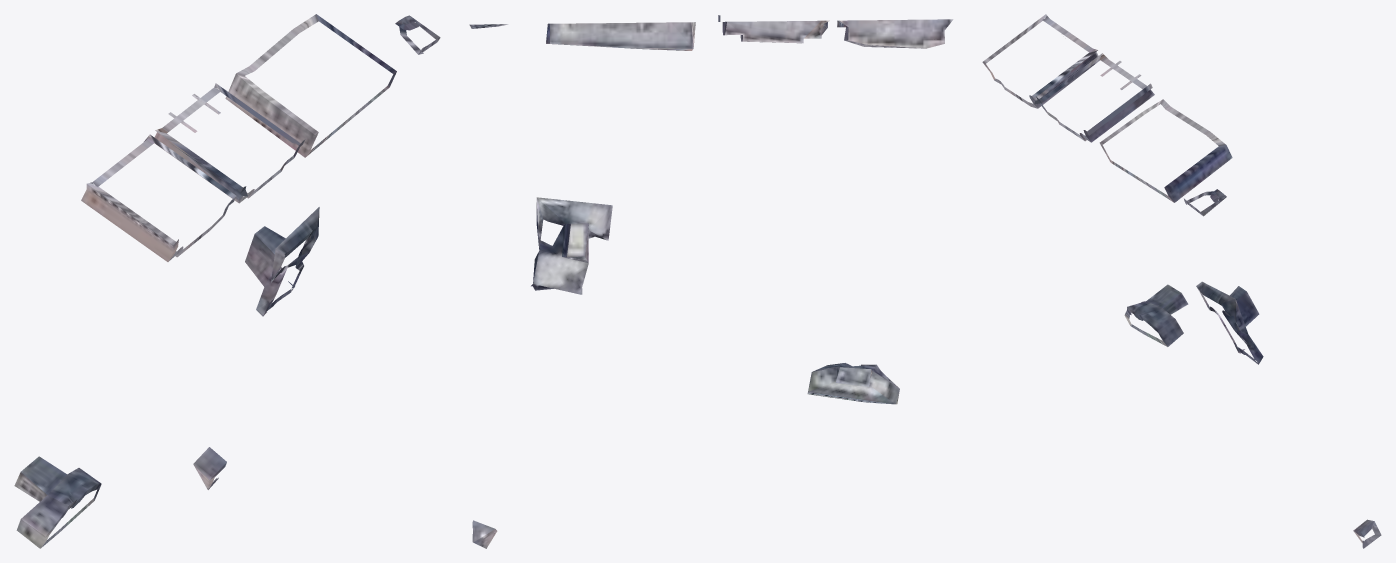
3 renders of one model, left to right at view 1: azimuth 30°, elevation 25°; view 2: azimuth 150°, elevation 25°; view 3: azimuth 270°, elevation 25°, orthographic. The views are drawn at different scales.
Bounding box in the file's own units: 126 × 144 × 126.
1 material, 1 textured.
